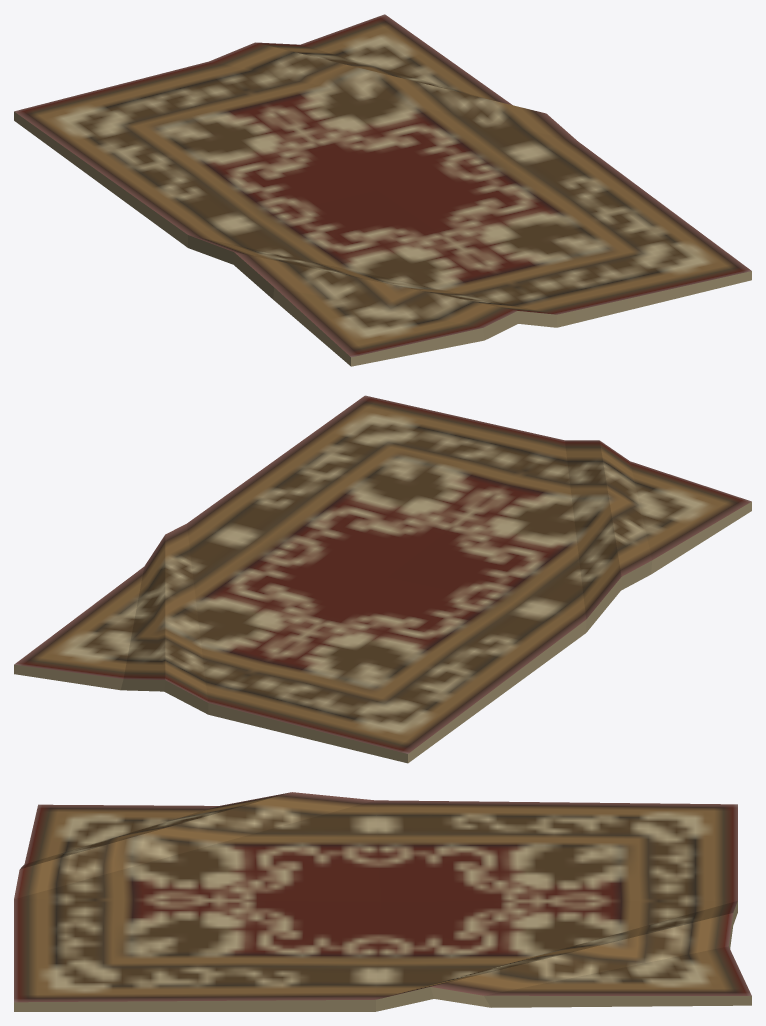
Rendered from SM_Prop_Rug_28.fbx.
The picture shows the model from 3 angles, top to bottom: view 1: azimuth 30°, elevation 25°; view 2: azimuth 150°, elevation 25°; view 3: azimuth 270°, elevation 25°; orthographic projection. The views are drawn at different scales.
Visible parts, largest first — view 1: SM_Prop_Rug_28; view 2: SM_Prop_Rug_28; view 3: SM_Prop_Rug_28.
Part boxes in pixels (x1=…): SM_Prop_Rug_28: x1=14, y1=14, x2=751, y2=366; SM_Prop_Rug_28: x1=14, y1=395, x2=751, y2=763; SM_Prop_Rug_28: x1=14, y1=792, x2=751, y2=1011.
Size of the model in its own units: 148 by 9.08 by 233.
